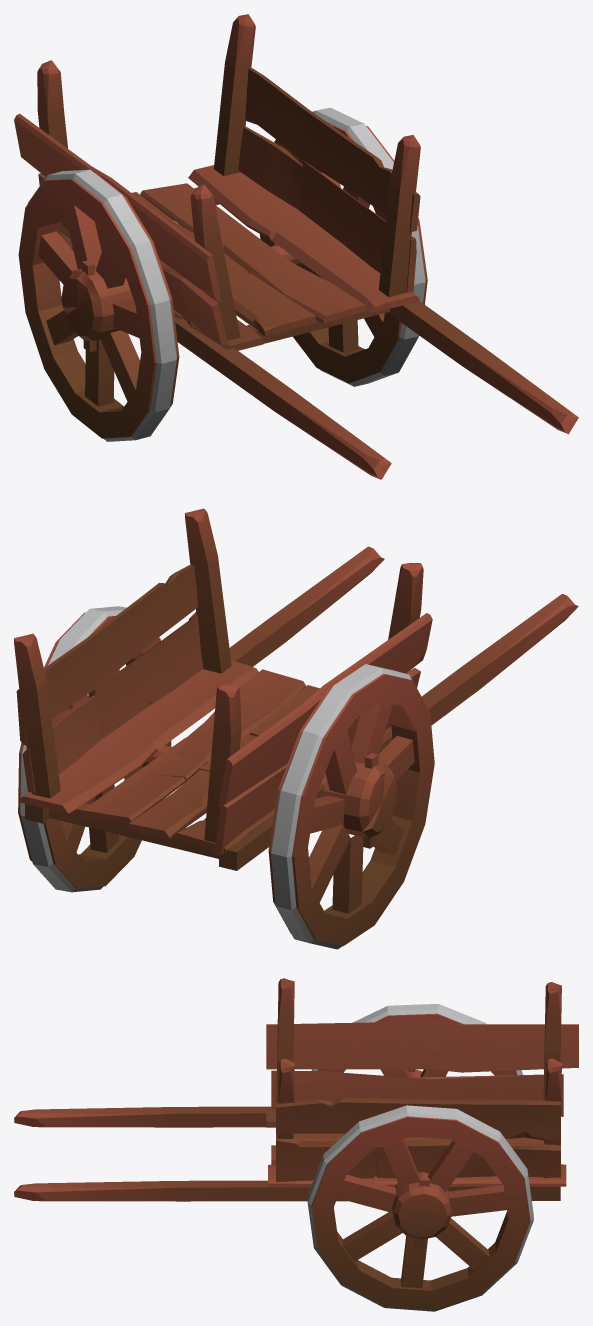
The picture shows the model from 3 angles, top to bottom: view 1: azimuth 30°, elevation 25°; view 2: azimuth 150°, elevation 25°; view 3: azimuth 270°, elevation 25°; orthographic projection. The views are drawn at different scales.
Visible parts, largest first — view 1: Cart; view 2: Cart; view 3: Cart.
Boxes of the visible parts, x1=… form: Cart: x1=14, y1=14, x2=578, y2=479; Cart: x1=14, y1=508, x2=578, y2=949; Cart: x1=14, y1=978, x2=578, y2=1311.
Size of the model in its own units: 59.5 by 57.08 by 120.
1 material, 1 textured.
